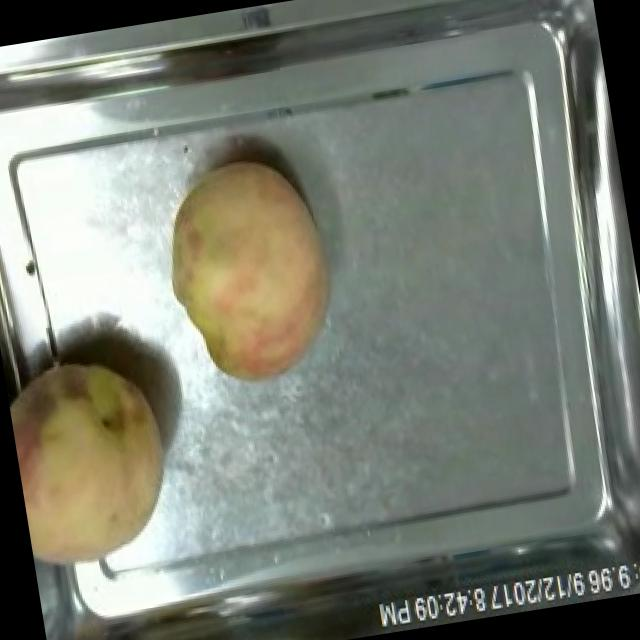Fruit: (143, 144, 354, 398), (2, 338, 194, 588)
